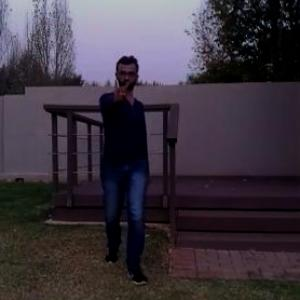takeoff-hand: (105, 69, 138, 112)
